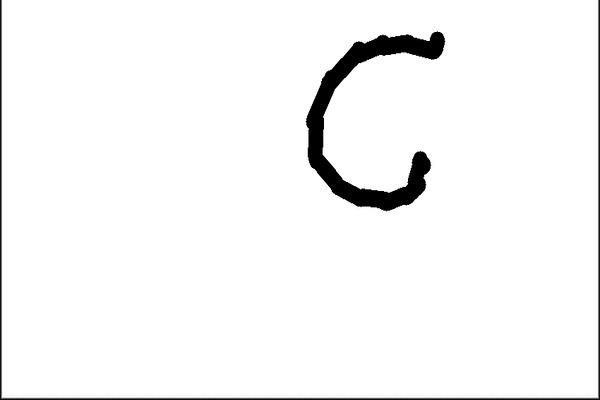C: (299, 26, 451, 213)
